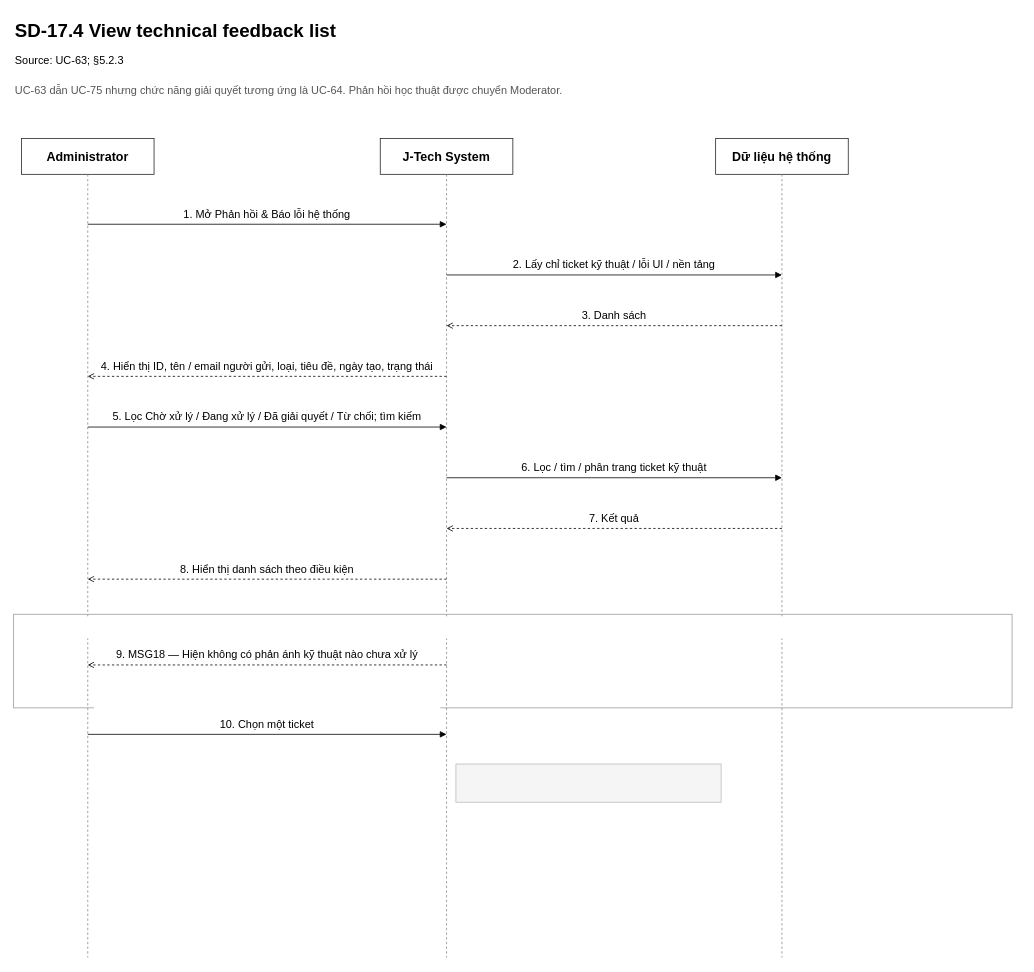
This 1034x972 diagram has some shape labels left out. The shapes that lost their labels are listed below. From the top down, each one's centre as x and y in pixels, then its label:
At (503,627): "opt [không có phản ánh chưa xử lý]".
At (588,782): "11. ref SD-17.5".
